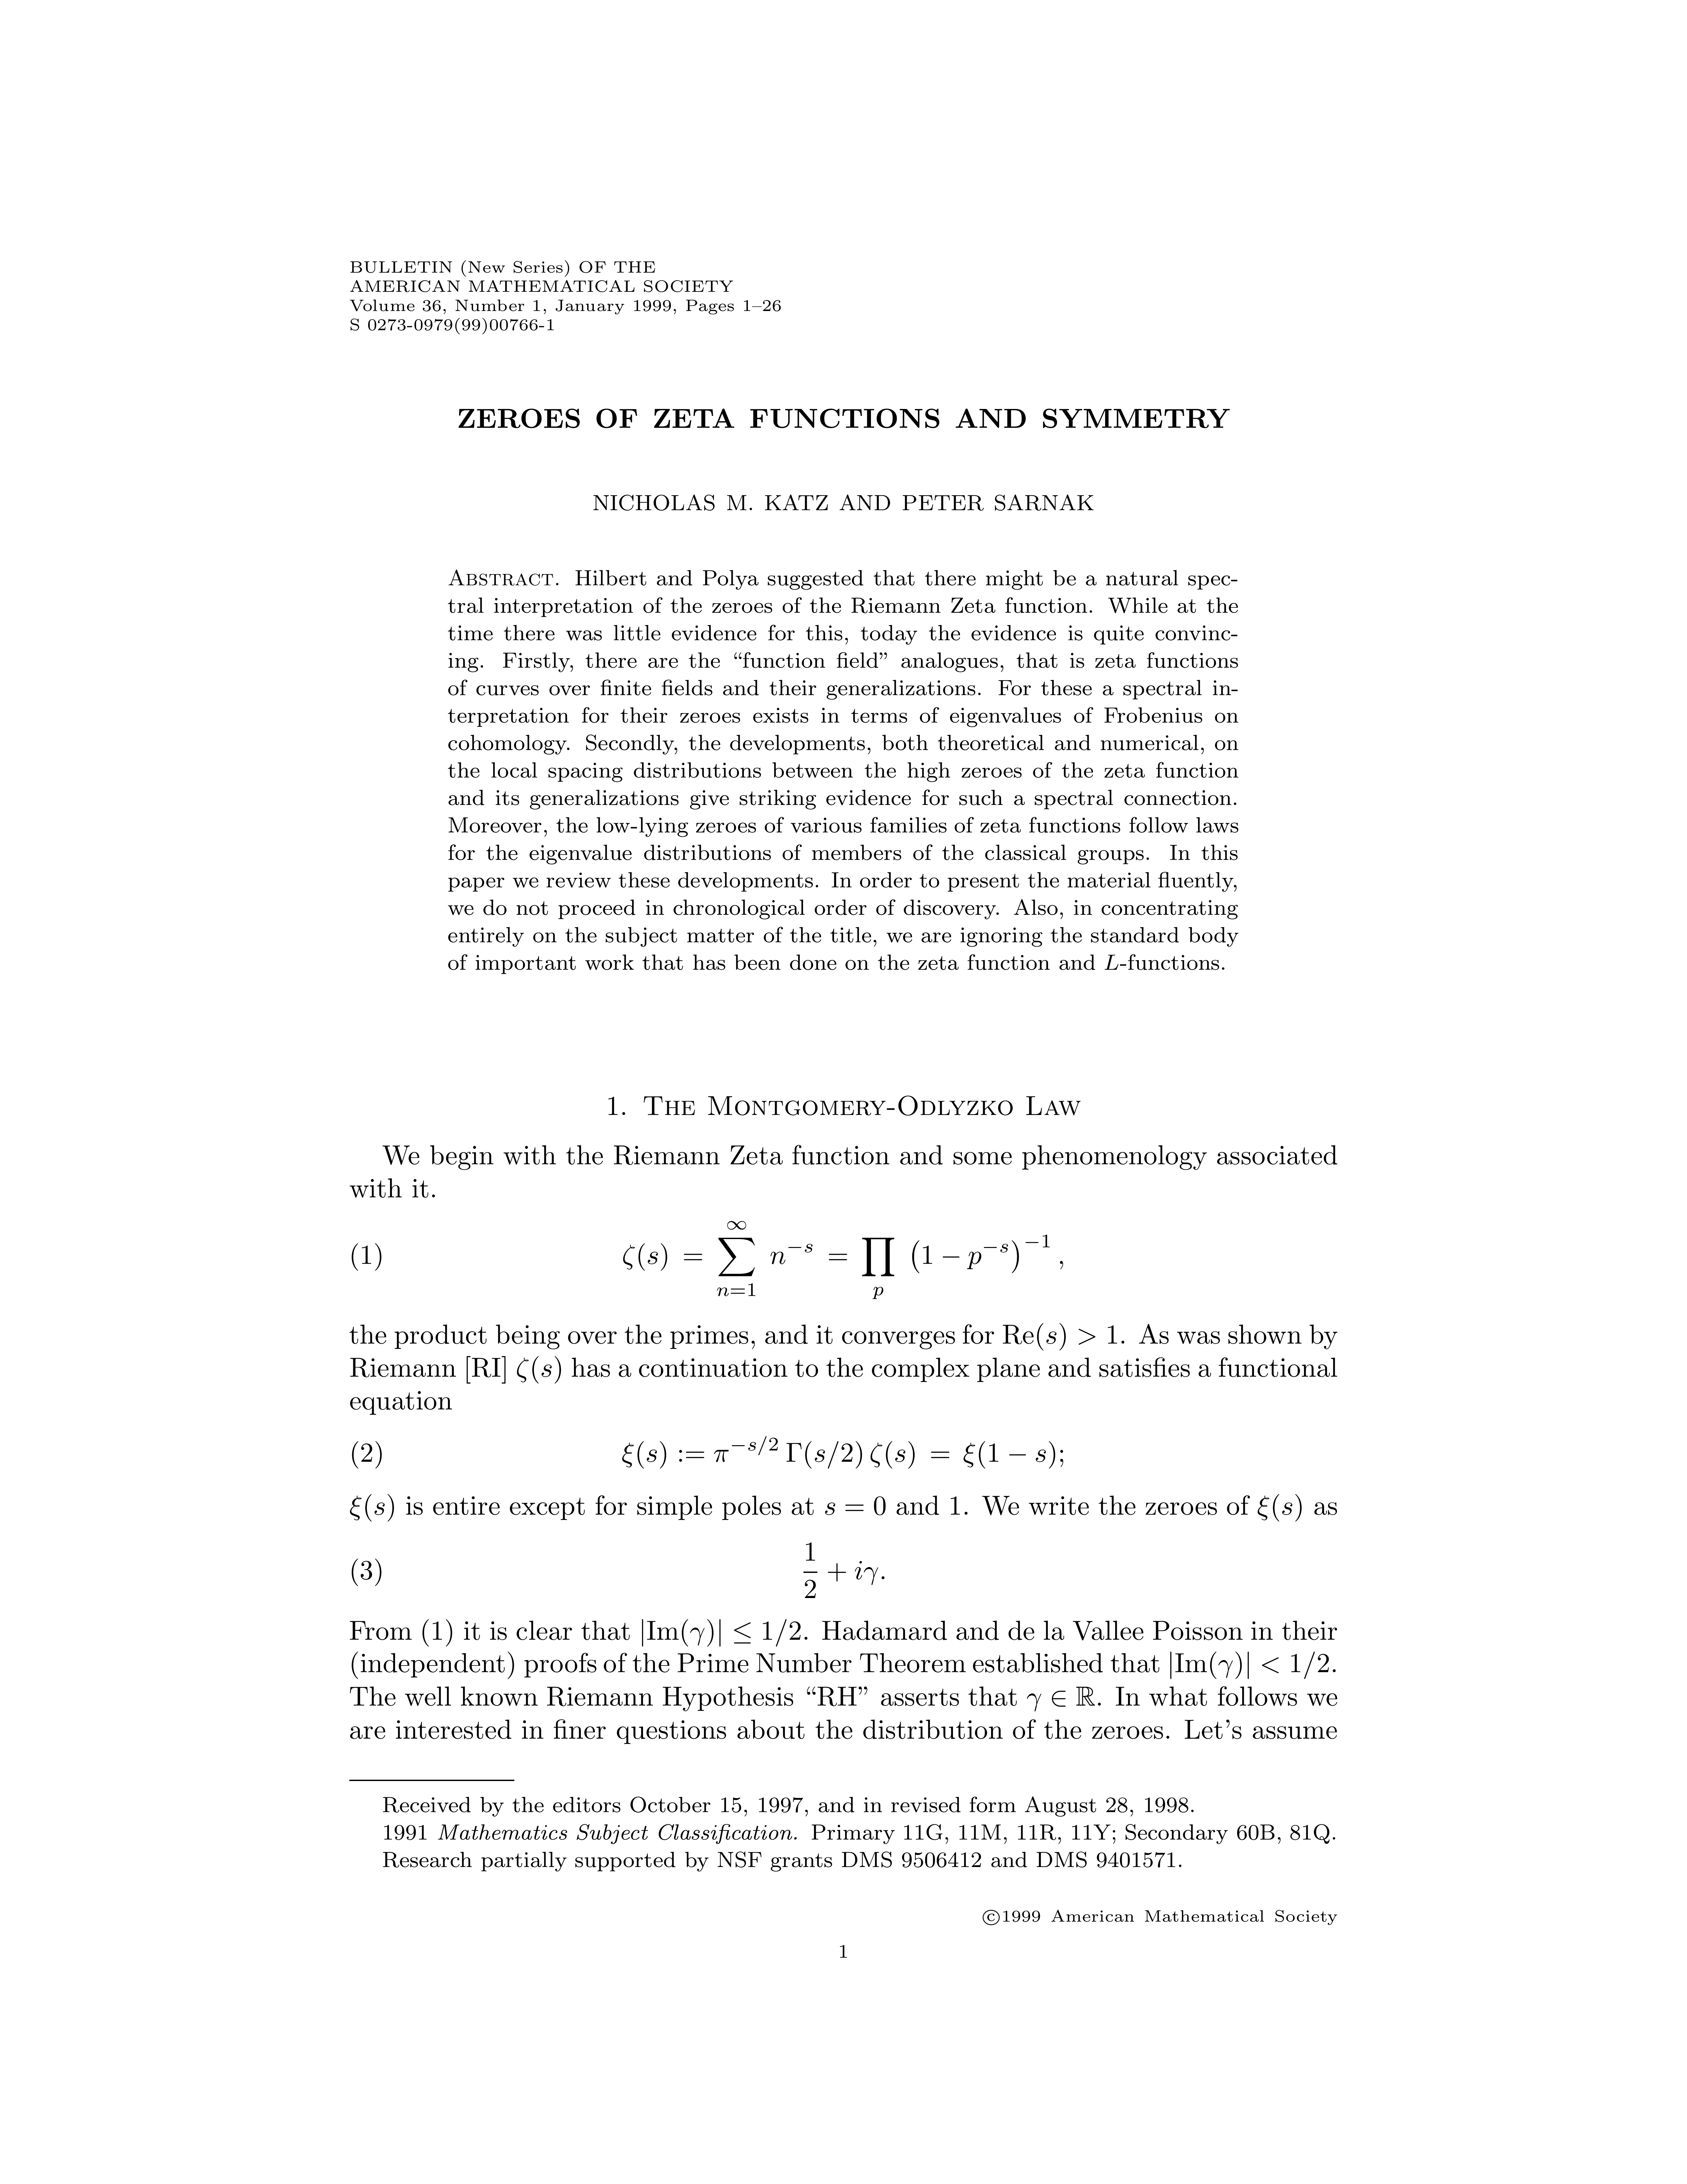maths: (624, 1221, 1049, 1299), (622, 1436, 1054, 1468), (641, 1618, 801, 1647), (1170, 1652, 1329, 1679), (803, 1542, 877, 1597), (1003, 1322, 1116, 1351), (1028, 1686, 1095, 1711), (349, 1494, 393, 1521), (826, 1496, 886, 1516), (517, 1356, 560, 1383), (1258, 1494, 1301, 1521), (950, 1496, 960, 1514)
